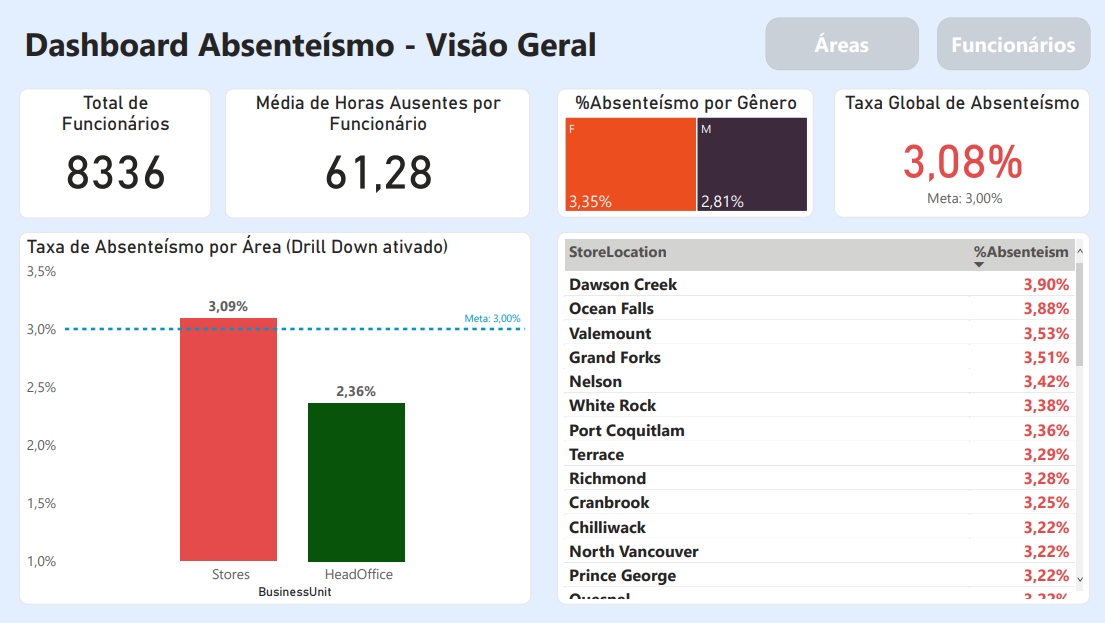

What the dashboard file says about the page in this screenshot:
{"tool":"powerbi","page":{"name":"Visão Geral","canvas":[1280,720],"ordinal":0},"visuals":[{"type":"card","title":"Total de Funcionários","fields":{"Values":["Count(MFGEmployees4.EmployeeNumber)"]},"box":[22.8,103.3,221.6,150],"z":0},{"type":"treemap","title":"%Absenteísmo por Gênero","fields":{"Group":["MFGEmployees4.Gender"],"Values":["MFGEmployees4.%Absenteism"]},"box":[643.8,103.5,296,149.5],"z":1000},{"type":"card","title":"Média de Horas Ausentes por Funcionário","fields":{"Values":["Avg(MFGEmployees4.AbsentHours)"]},"box":[260.9,103.3,352.3,150],"z":2000},{"type":"card","title":"Taxa Global de Absenteísmo","fields":{"Values":["MFGEmployees4.%Absenteism"]},"box":[962.9,103.5,294.6,149.5],"z":3000},{"type":"clusteredColumnChart","title":"Taxa de Absenteísmo por Área (Drill Down ativado)","fields":{"Y":["MFGEmployees4.%Absenteism"],"Category":["MFGEmployees4.BusinessUnit","MFGEmployees4.Division","MFGEmployees4.DepartmentName"]},"box":[22.8,268.3,590.8,429.5],"z":4000},{"type":"pivotTable","title":"Taxa de Absenteísmo por Área (Drill Down ativado)","fields":{"Values":["MFGEmployees4.%Absenteism"],"Rows":["MFGEmployees4.StoreLocation"]},"box":[643.6,268.3,615,429.5],"z":5000},{"type":"actionButton","box":[884.7,21.7,176.9,61.4],"z":6000},{"type":"actionButton","box":[1081.6,21.7,176.9,61.4],"z":7000},{"type":"textbox","title":"Dashboard Absenteísmo - Visão Geral","box":[23.4,21.4,681.3,61.9],"z":8000}]}

Visuals, with their boxes in screenshot pixels (x1, y1, x2, y2), scaled from the page's 1280x720 canvas onto the 1105x623 screenshot:
"Total de Funcionários" card: bbox(20, 89, 211, 219)
"%Absenteísmo por Gênero" treemap: bbox(556, 90, 811, 219)
"Média de Horas Ausentes por Funcionário" card: bbox(225, 89, 529, 219)
"Taxa Global de Absenteísmo" card: bbox(831, 90, 1086, 219)
"Taxa de Absenteísmo por Área (Drill Down ativado)" clusteredColumnChart: bbox(20, 232, 530, 604)
"Taxa de Absenteísmo por Área (Drill Down ativado)" pivotTable: bbox(556, 232, 1087, 604)
actionButton: bbox(764, 19, 916, 72)
actionButton: bbox(934, 19, 1086, 72)
"Dashboard Absenteísmo - Visão Geral" textbox: bbox(20, 19, 608, 72)
